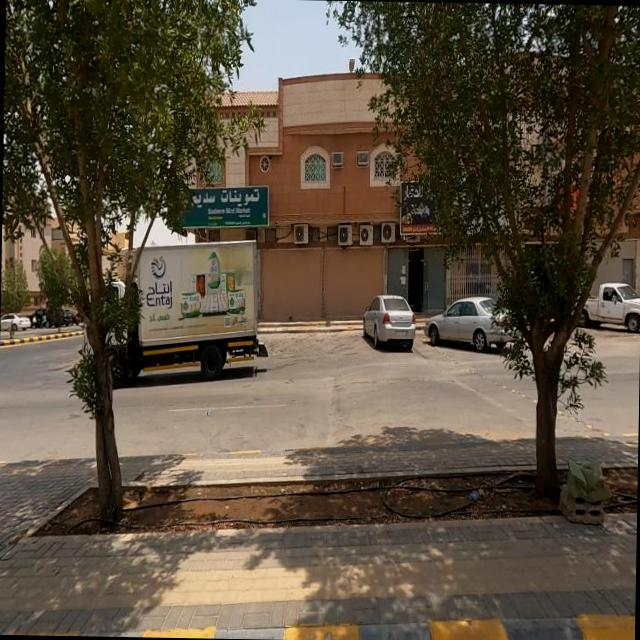debris: (522, 411, 631, 558), (444, 452, 497, 536)
